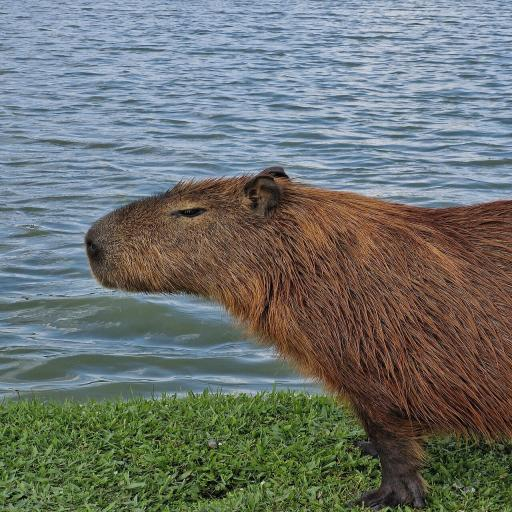capybara: (56, 132, 512, 512), (86, 167, 511, 510)
